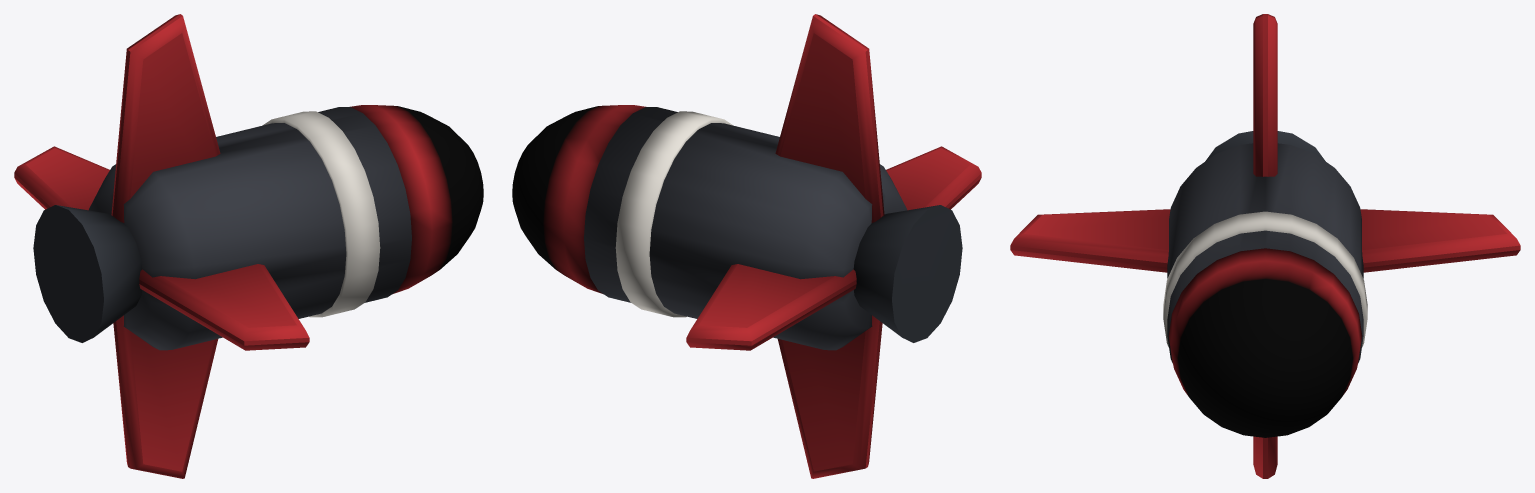
File: proj_missile.glb
3 views of the same model, side by side, from view 1: azimuth 30°, elevation 25°; view 2: azimuth 150°, elevation 25°; view 3: azimuth 270°, elevation 25° (orthographic).
Parts seen in each view (by area): view 1: missile_mesh; view 2: missile_mesh; view 3: missile_mesh.
Boxes of the visible parts, x1,y1,x2,y2 form: missile_mesh: (14, 14, 483, 478); missile_mesh: (512, 14, 981, 478); missile_mesh: (1010, 14, 1520, 478).
Bounding box in the file's own units: 0.8095 × 0.884 × 0.884.
